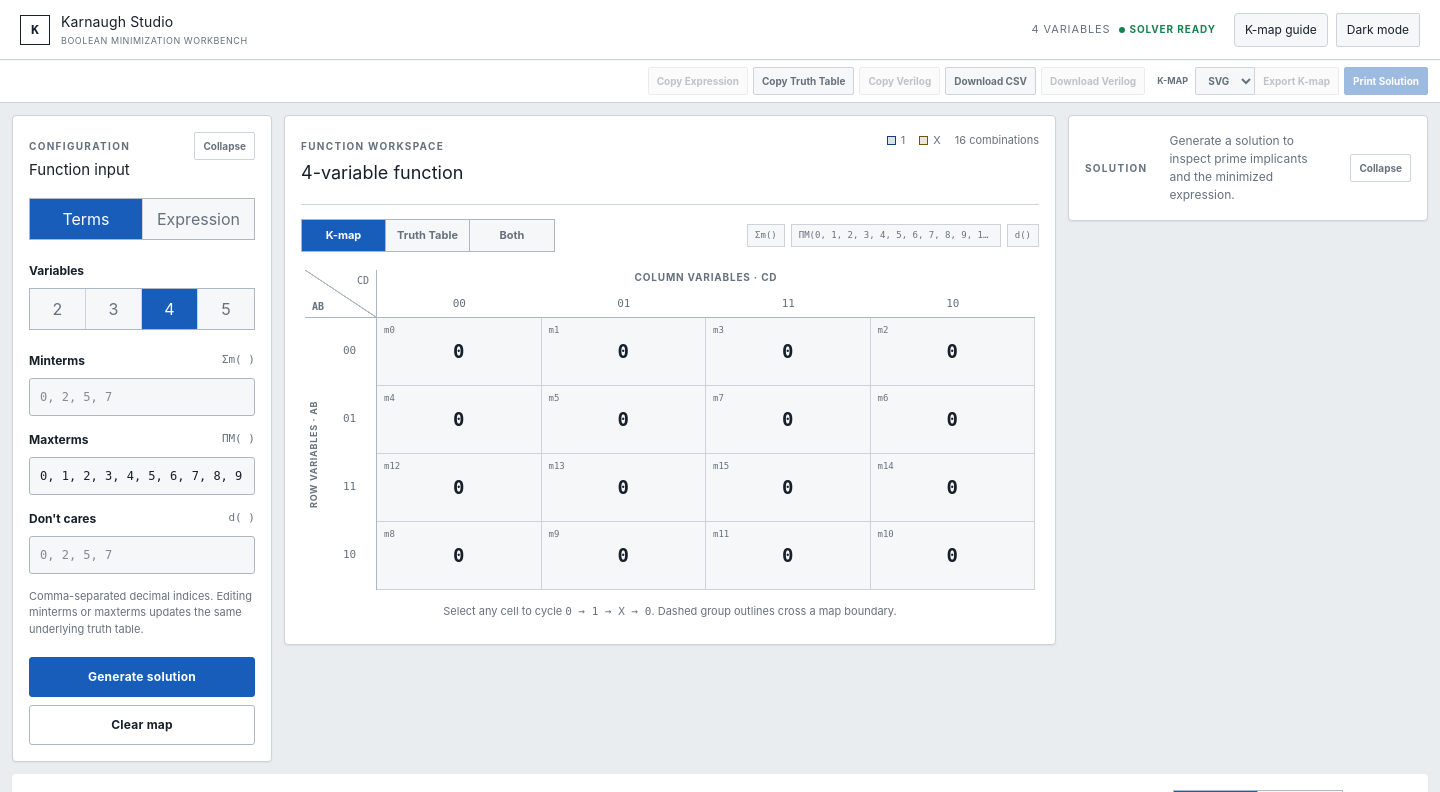
Test: HomePage K-map workbench › updates an active solver result after a truth-table edit
Step 1. Click the button "2" → (58,308), box [30,288,86,328]
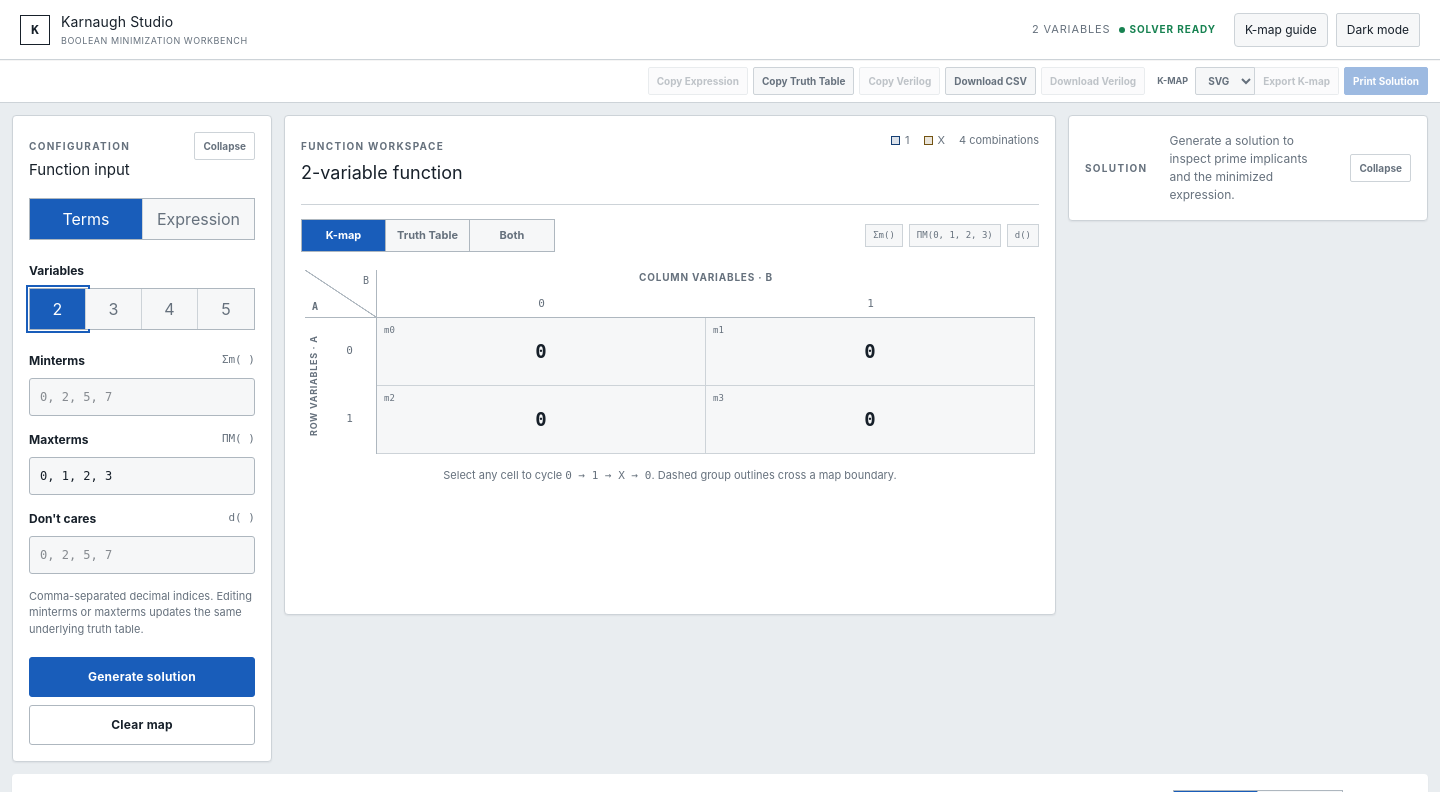
Step 2. Type "0" into the field labelled "Minterms Σm( )" → (142,396), box [29,378,255,416]
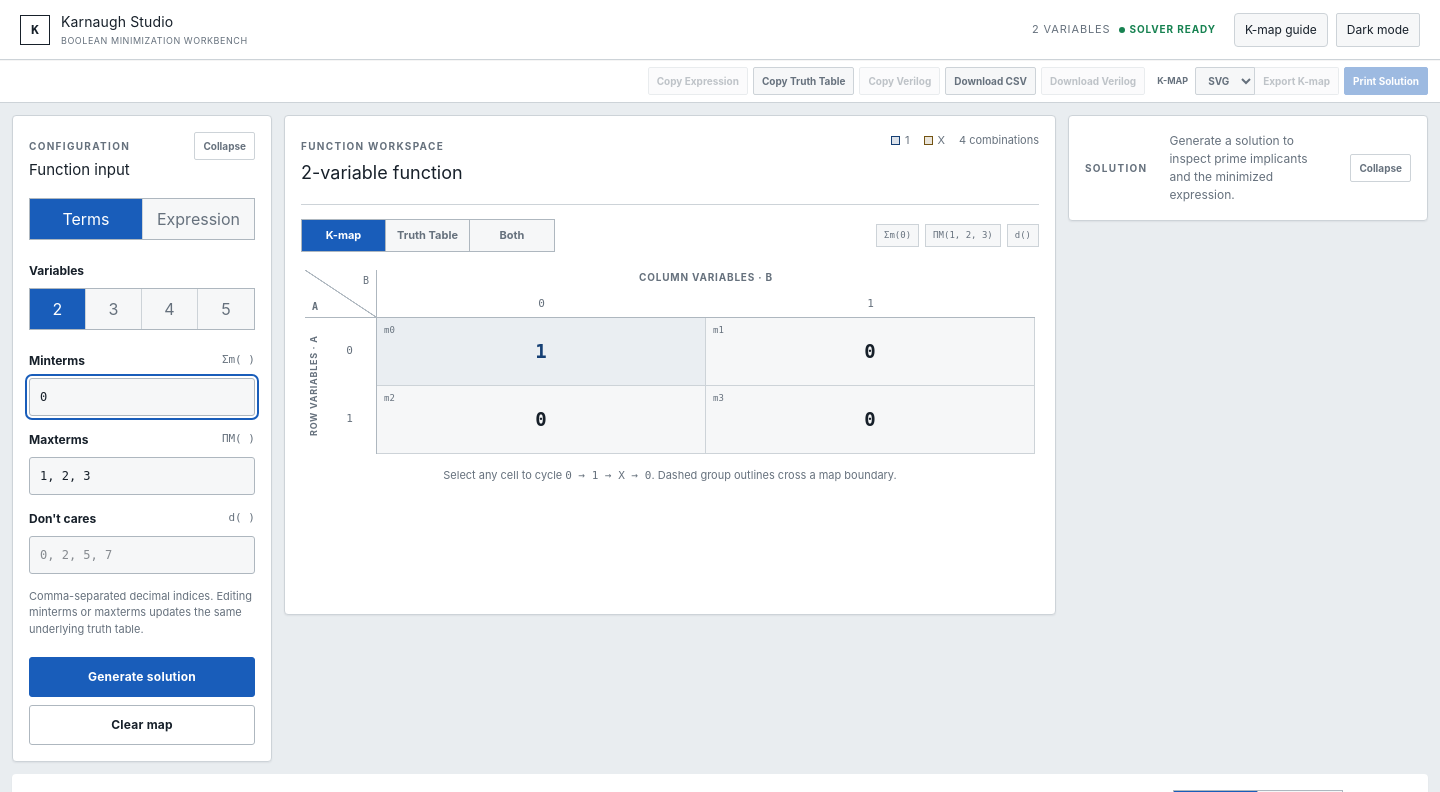
Step 3. Click the button "Generate solution" → (142,677), box [29,657,255,697]
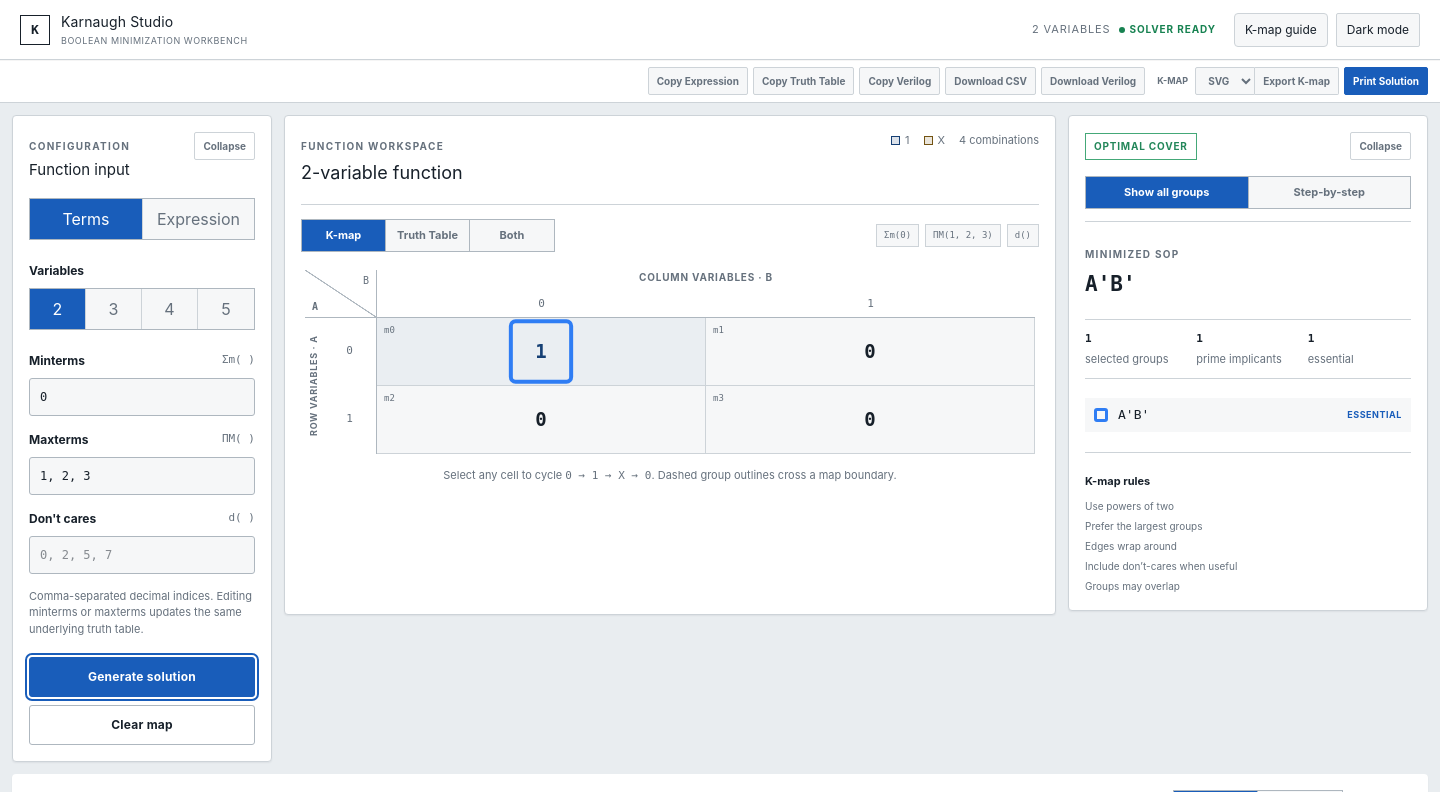
expect the heading "A'B'" is shown: met, box [1085,272,1136,296]
Step 4. Click the button "Truth Table" → (428,235), box [386,220,470,250]
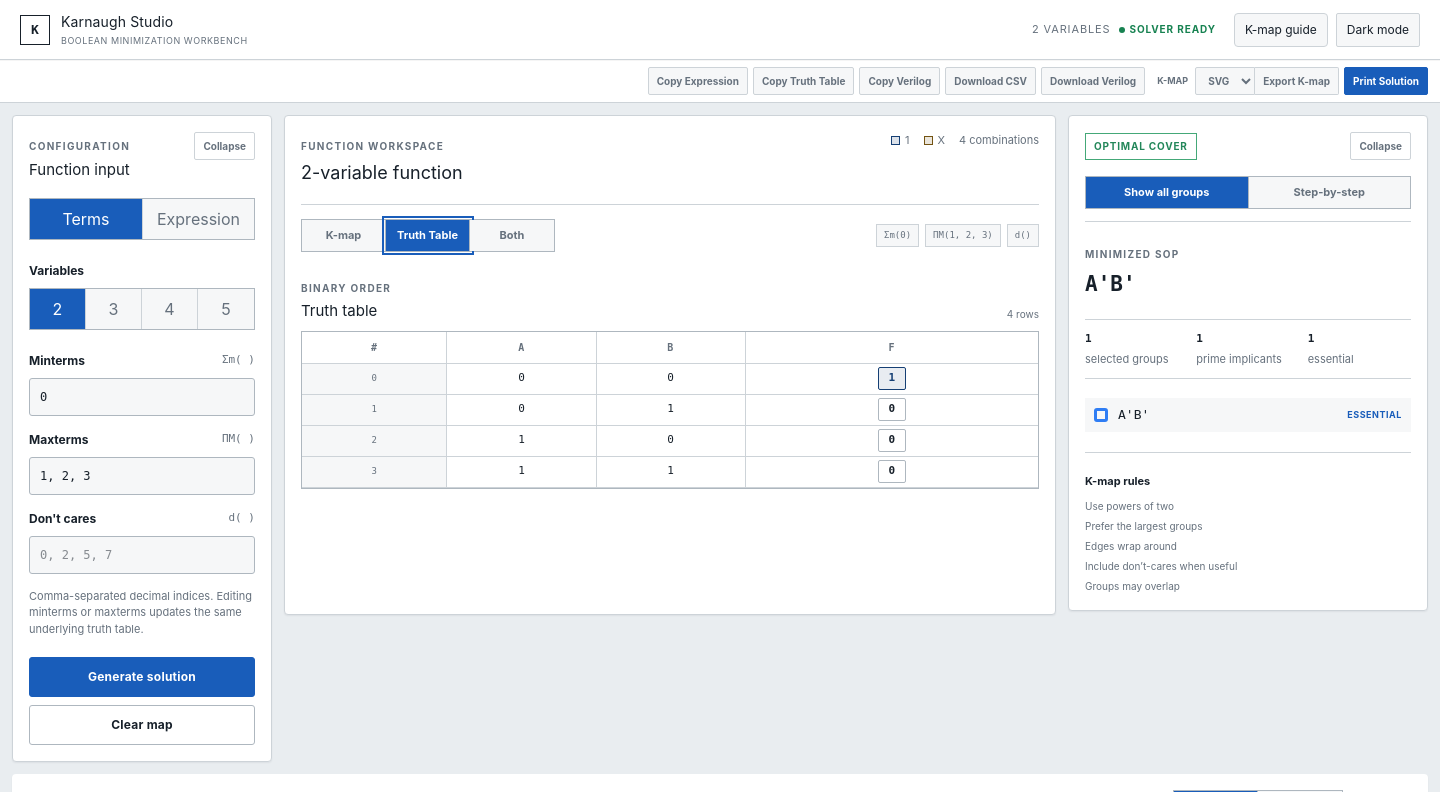
Step 5. Click the button named "Row 1 output 0" → (892,410), box [878,398,906,421]
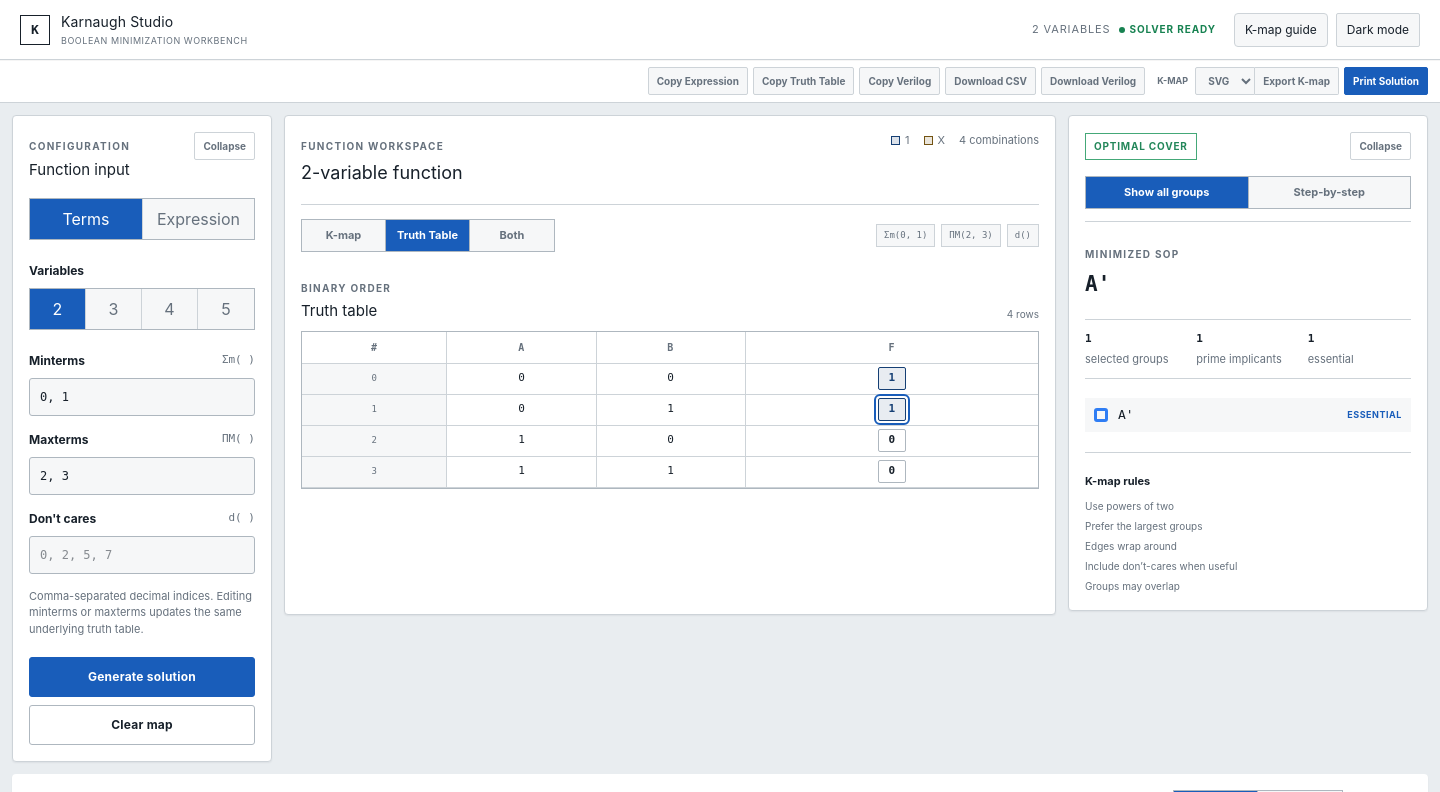
expect the heading "A'" is shown: met, box [1085,272,1110,296]
expect the field labelled "Minterms Σm( )" holds "0, 1": met, box [29,378,255,416]
